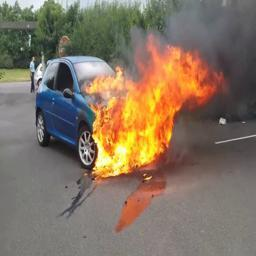fire: (83, 33, 225, 177)
